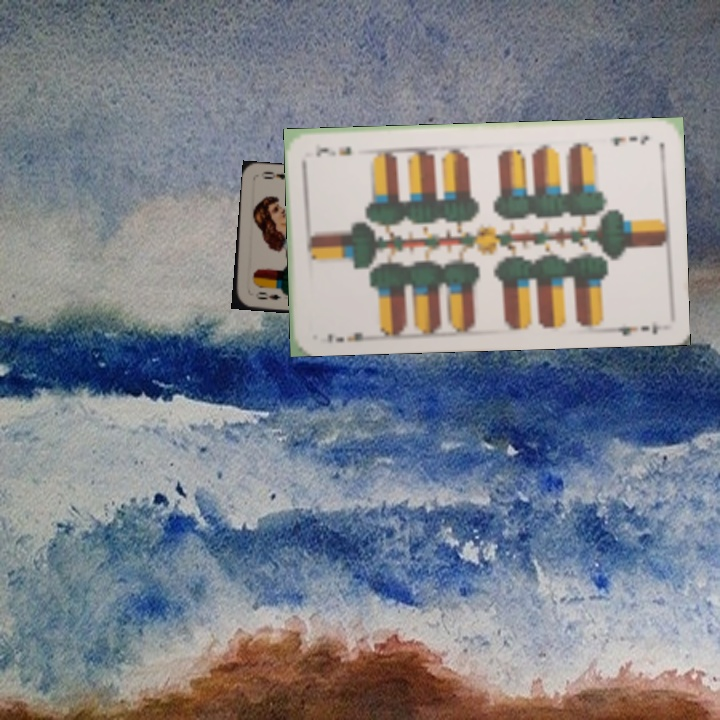E7: (324, 328, 374, 346), (609, 131, 652, 149)
EO: (252, 288, 284, 303)
